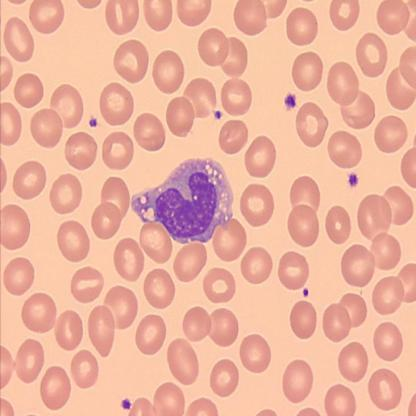Monocyte: (128, 153, 236, 246)
